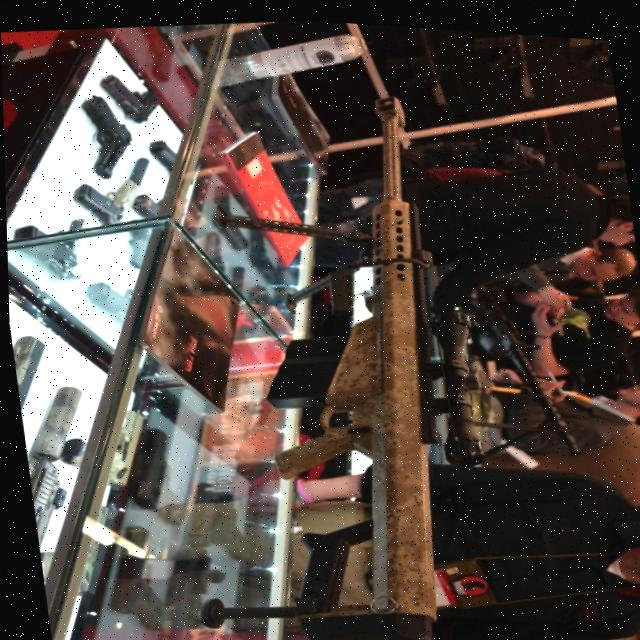firearm: (124, 69, 510, 640), (463, 268, 584, 461), (14, 380, 103, 584)
pistol: (48, 401, 150, 493), (29, 498, 117, 601), (93, 519, 167, 634), (115, 420, 188, 530), (65, 151, 155, 228), (7, 213, 94, 286), (76, 89, 136, 181), (8, 332, 52, 418), (97, 68, 161, 126)
